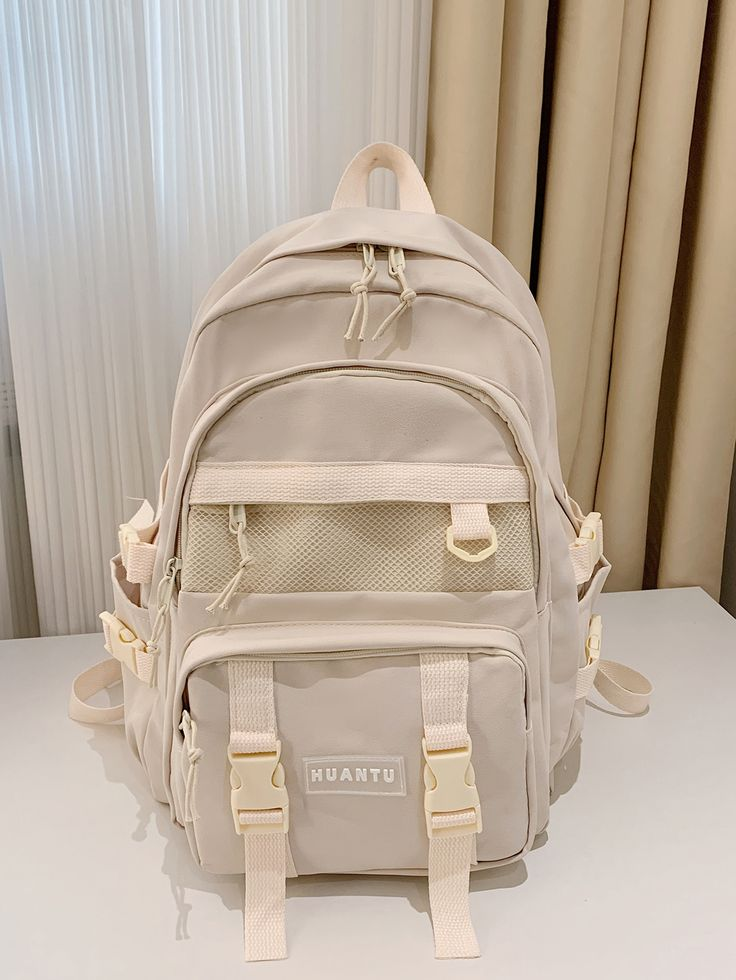nylon: (70, 142, 659, 961)
